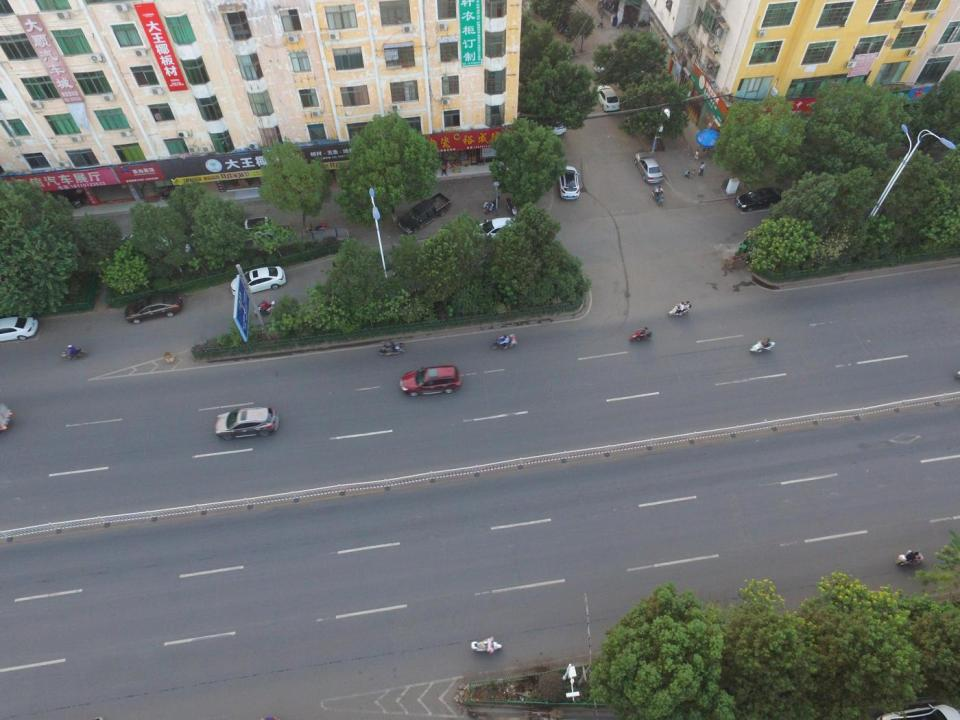car: (214, 406, 280, 440), (398, 364, 463, 397), (124, 292, 183, 323), (230, 266, 286, 296), (118, 232, 174, 260), (735, 187, 787, 212), (470, 216, 518, 243), (236, 217, 276, 246), (0, 315, 39, 343), (634, 152, 664, 184), (59, 176, 88, 208), (556, 165, 580, 200), (544, 104, 566, 136), (595, 85, 620, 111)
truck: (398, 192, 452, 235)
